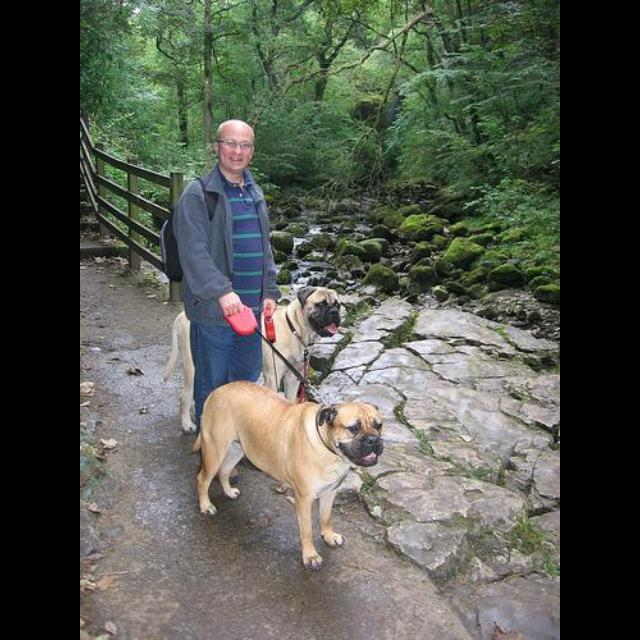bullmastiff: (192, 380, 384, 572), (162, 286, 342, 435)
face: (216, 121, 258, 174)
person: (172, 119, 282, 486)
